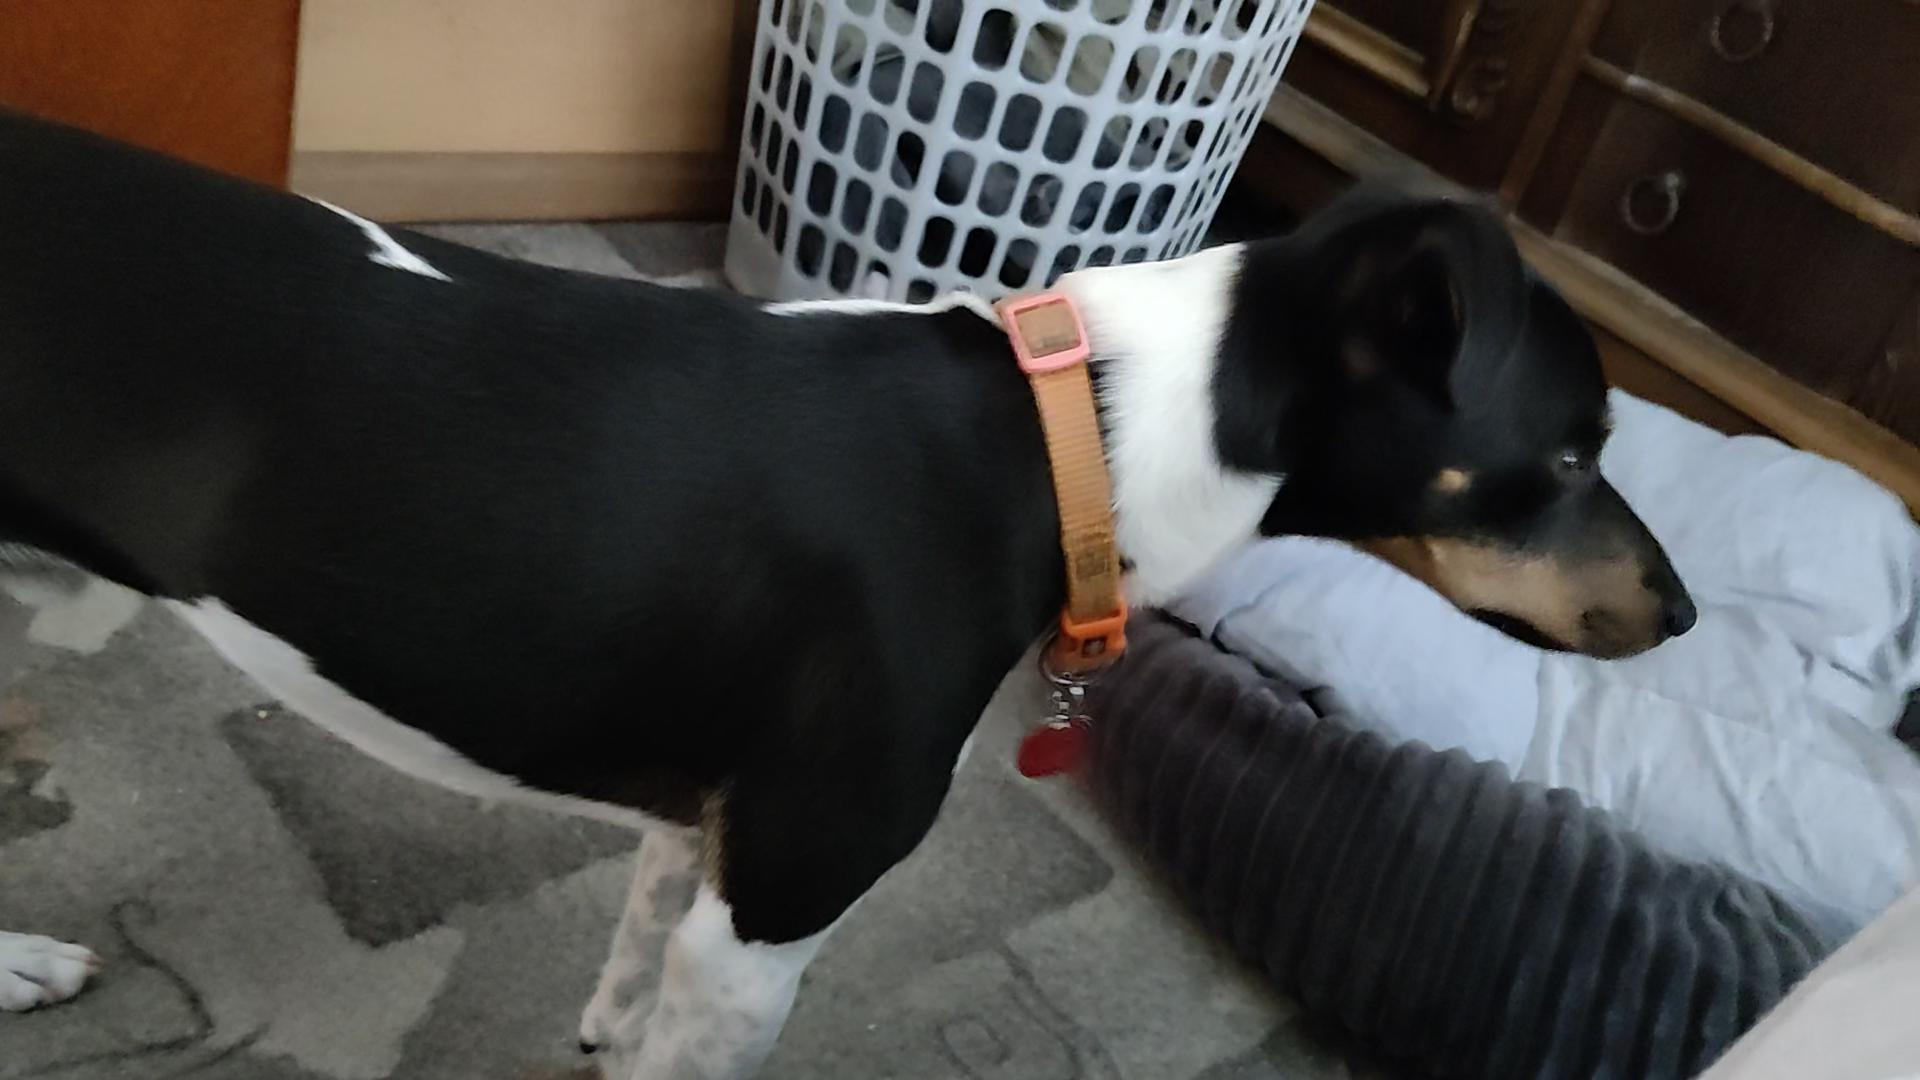Dog: (0, 90, 1705, 1079)
